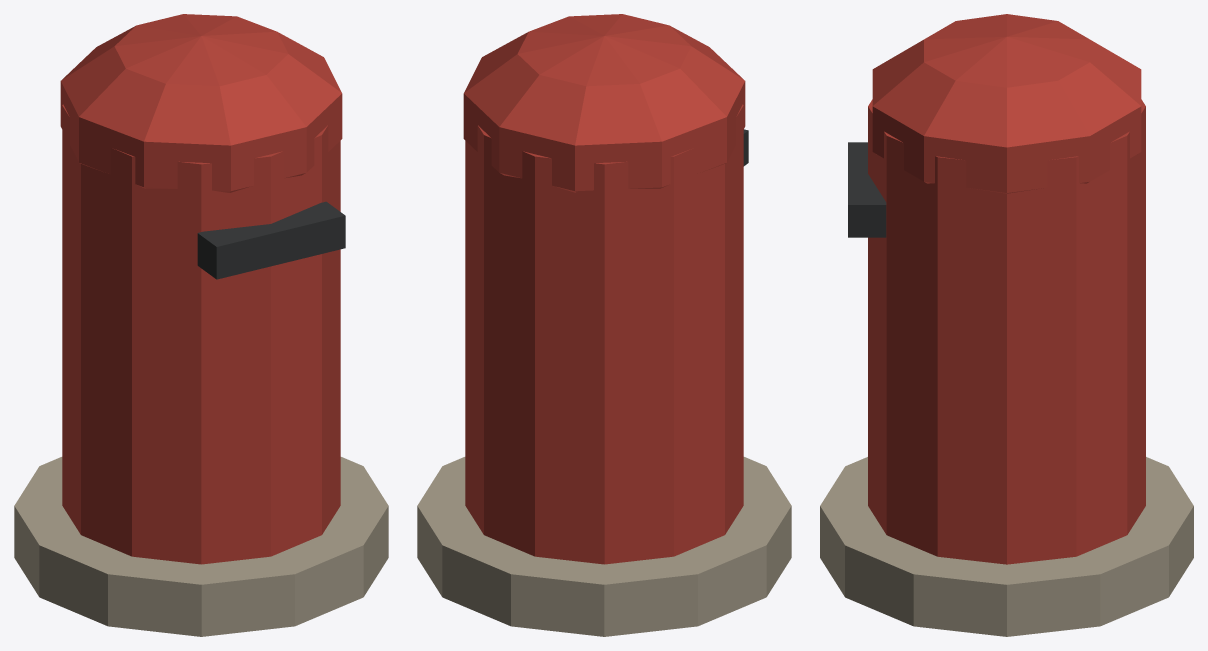
The model's file is 048_pillar_postbox.glb.
3 renders of one model, left to right at view 1: azimuth 30°, elevation 25°; view 2: azimuth 150°, elevation 25°; view 3: azimuth 270°, elevation 25°, orthographic.
Parts seen in each view (by area): view 1: Pillar postbox; view 2: Pillar postbox; view 3: Pillar postbox.
Boxes of the visible parts, x1,y1,x2,y2 form: Pillar postbox: (14, 14, 388, 636); Pillar postbox: (417, 14, 791, 636); Pillar postbox: (820, 14, 1193, 636).
Size of the model in its own units: 0.78 by 1.2 by 0.78.
